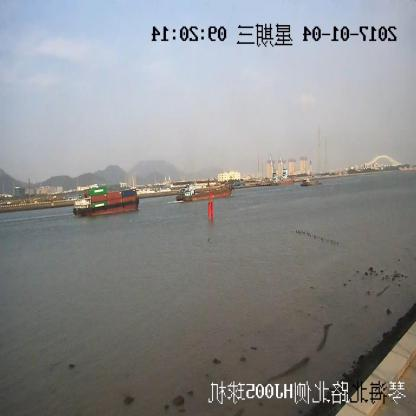Bulk Carrier: (176, 182, 240, 201)
